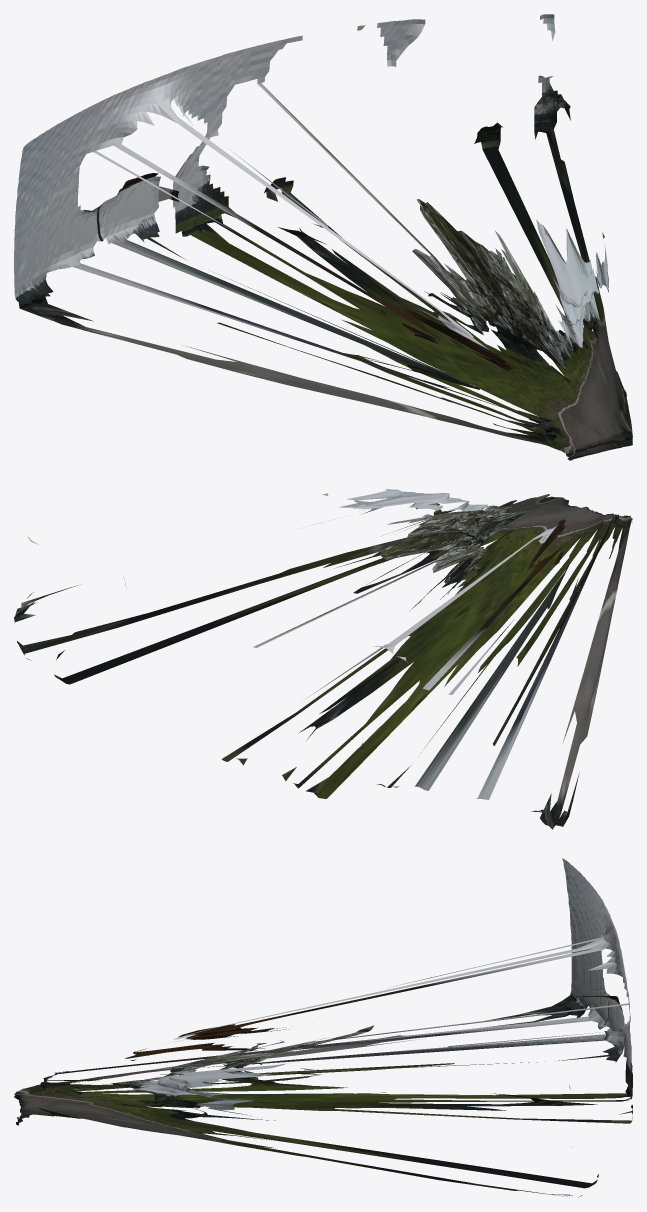
3 renders of one model, top to bottom at view 1: azimuth 30°, elevation 25°; view 2: azimuth 150°, elevation 25°; view 3: azimuth 270°, elevation 25°, orthographic. The views are drawn at different scales.
Visible parts, largest first — view 1: defaultobject; view 2: defaultobject; view 3: defaultobject.
Part boxes in pixels (left/top/right/bottom): defaultobject: left=14, top=14, right=632, bottom=460; defaultobject: left=14, top=489, right=632, bottom=829; defaultobject: left=14, top=858, right=632, bottom=1197.
Size of the model in its own units: 40.78 by 12.99 by 44.47.
1 material, 1 textured.
